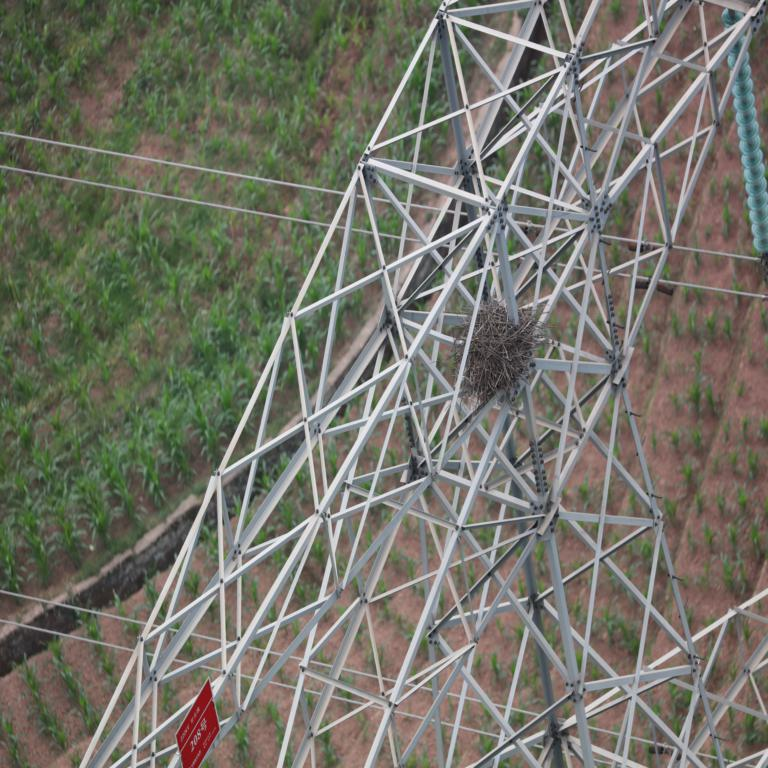nest: (455, 307, 545, 403)
